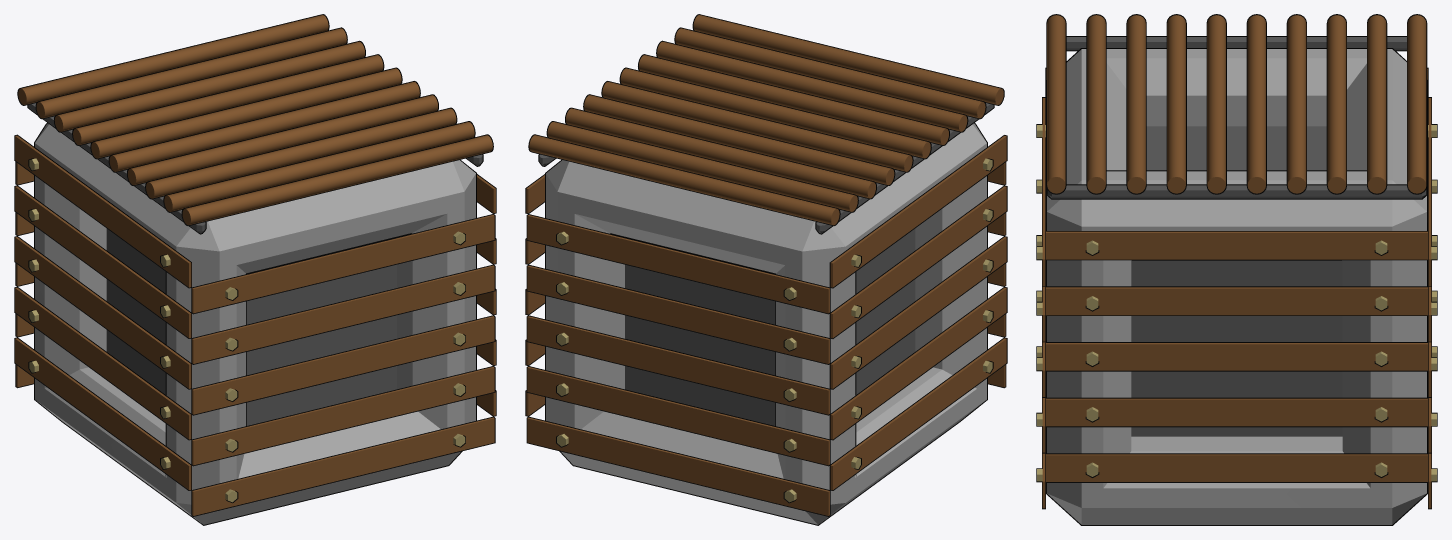
The model's file is Platform2.fbx.
3 views of the same model, side by side, from view 1: azimuth 30°, elevation 25°; view 2: azimuth 150°, elevation 25°; view 3: azimuth 270°, elevation 25° (orthographic). The views are drawn at different scales.
Visible parts, largest first — view 1: Cylinder; view 2: Cylinder; view 3: Cylinder.
Part boxes in pixels (left/top/right/bottom): Cylinder: left=14, top=14, right=496, bottom=525; Cylinder: left=525, top=14, right=1007, bottom=525; Cylinder: left=1036, top=14, right=1437, bottom=525.
Bounding box in the file's own units: 210 × 211 × 210.
